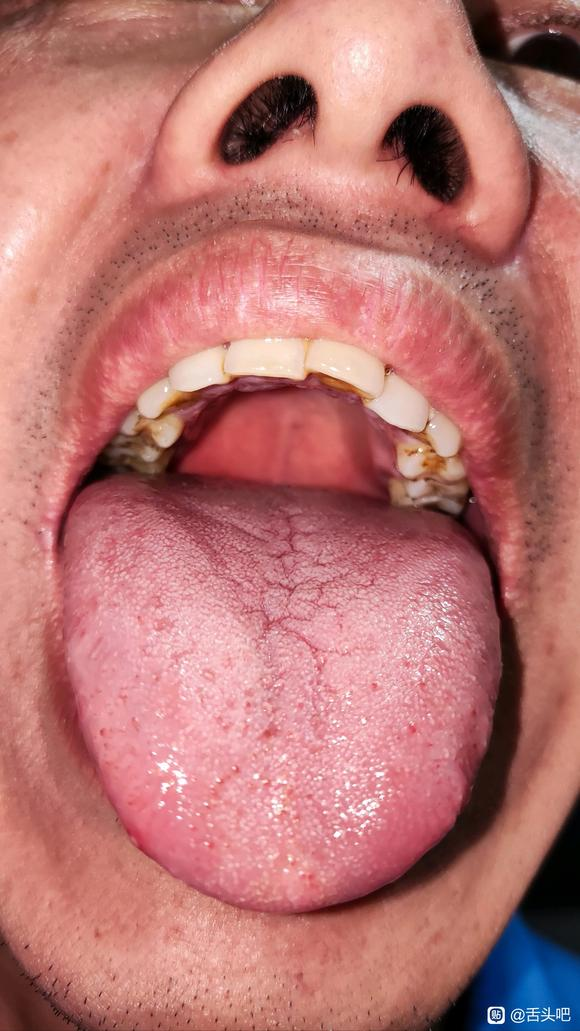hongdianshe: (367, 678, 380, 694), (405, 720, 418, 736)
hongshe: (63, 466, 502, 912)
